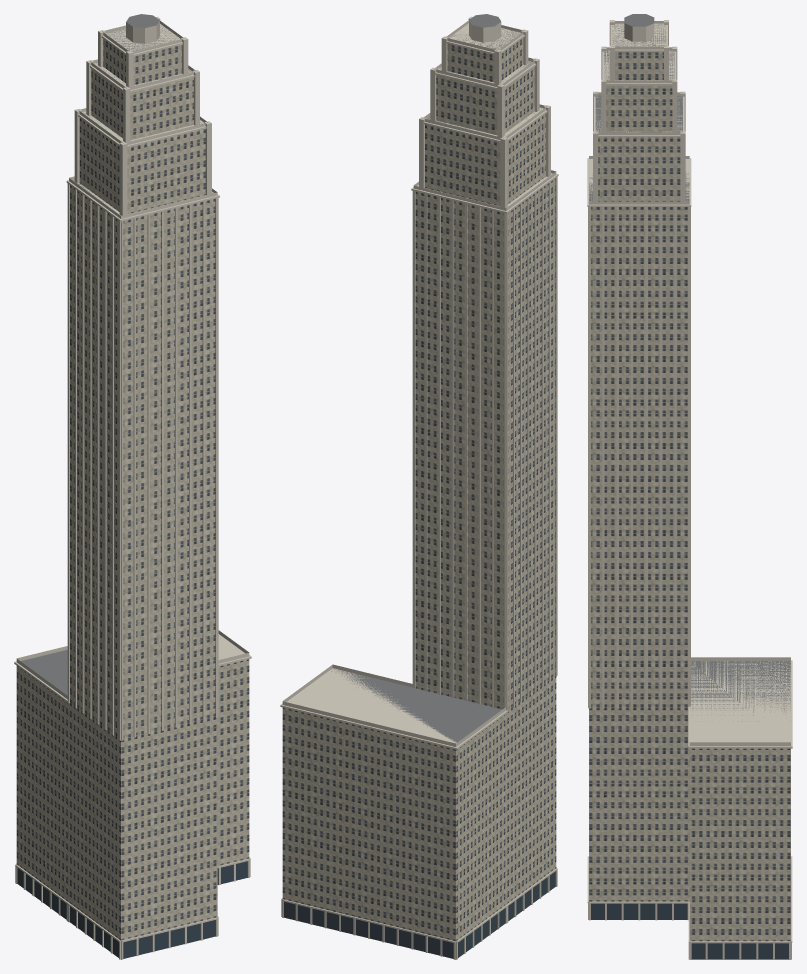
The model's file is central_park_south_220.glb.
3 views of the same model, side by side, from view 1: azimuth 30°, elevation 25°; view 2: azimuth 150°, elevation 25°; view 3: azimuth 270°, elevation 25° (orthographic). The views are drawn at different scales.
Parts seen in each view (by area): view 1: central_park_south_220; view 2: central_park_south_220; view 3: central_park_south_220.
Part boxes in pixels (<box>): central_park_south_220: <box>14,14,251,959</box>; central_park_south_220: <box>280,14,558,959</box>; central_park_south_220: <box>587,14,792,959</box>.
Bounding box in the file's own units: 61.39 × 290 × 61.49.
Materials: 2 (2 with a texture image).
